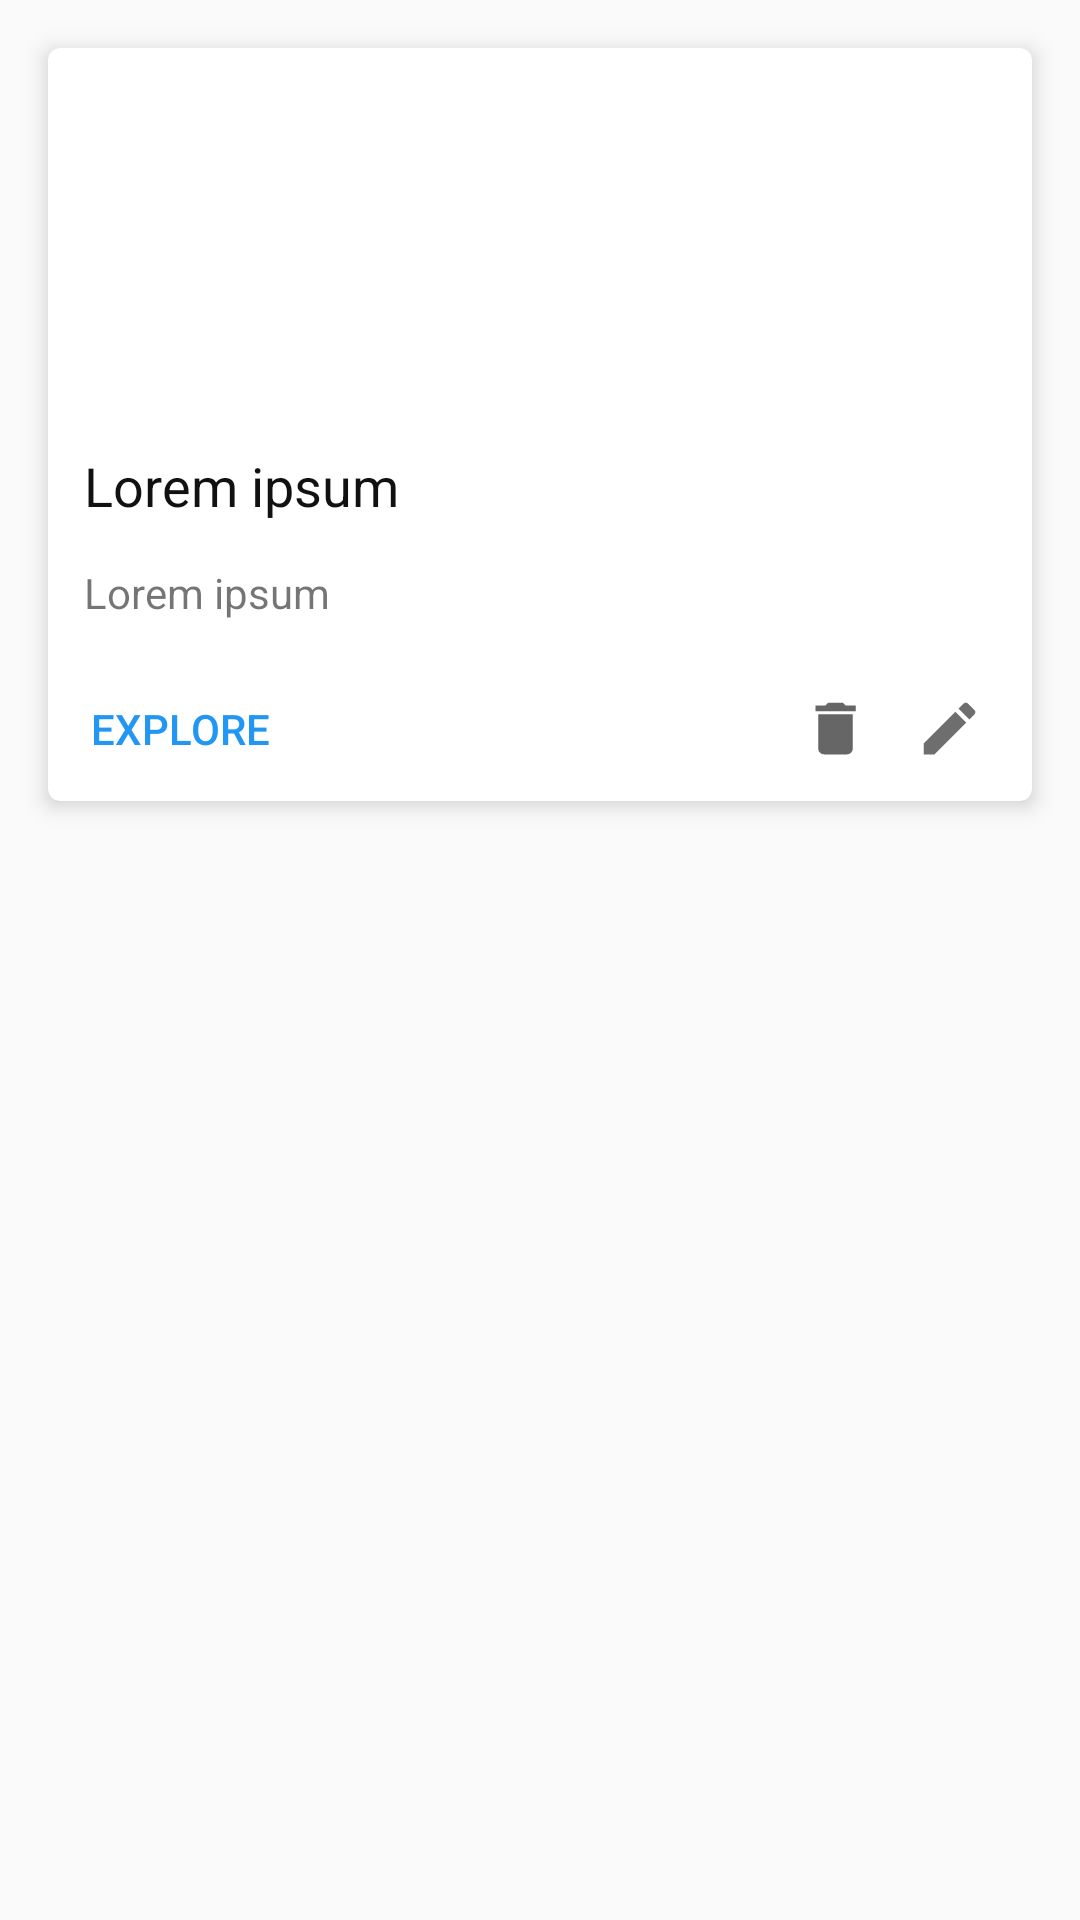

Where icons sit on this 1080px×1920px app screen, as Rect(x1, y1, x2, y2):
delete: Rect(815, 702, 856, 755)
edit: Rect(923, 702, 976, 755)
